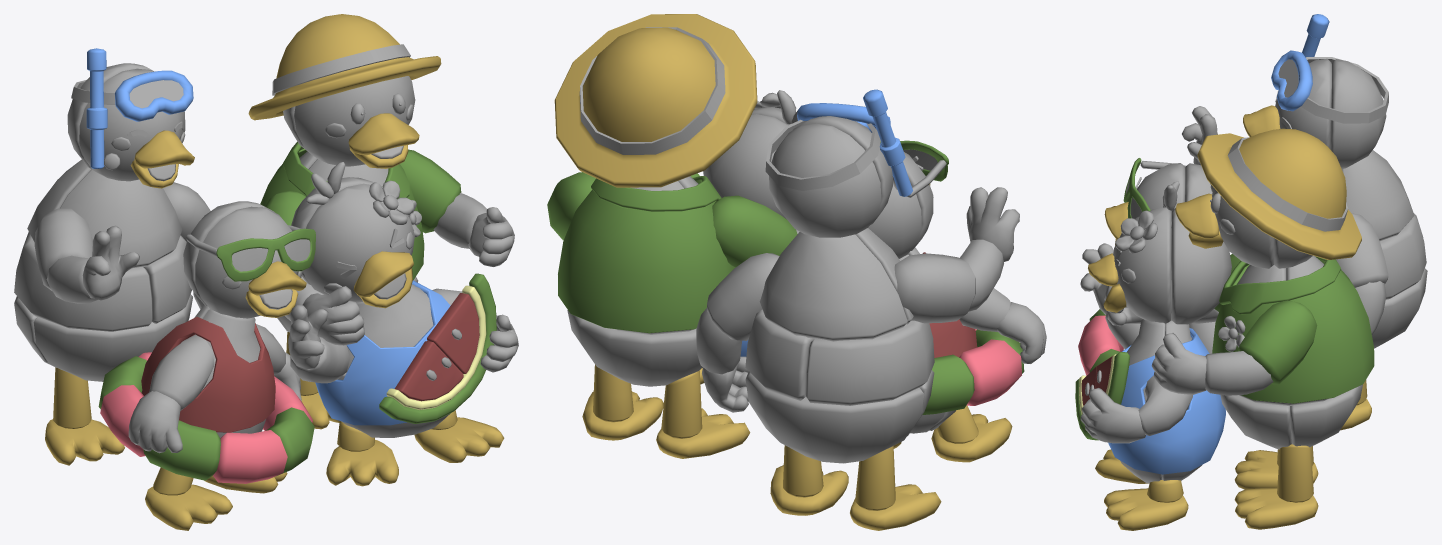
File: FunnyDucks.fbx
3 renders of one model, left to right at view 1: azimuth 30°, elevation 25°; view 2: azimuth 150°, elevation 25°; view 3: azimuth 270°, elevation 25°, orthographic. The views are drawn at different scales.
Parts seen in each view (by area): view 1: S_FunnyDucks_3, S_FunnyDucks_18, M_FunnyDucks_5, M_FunnyDucks_24, S_FunnyDucks_4, M_FunnyDucks_25, M_FunnyDucks_28, M_FunnyDucks_7, M_FunnyDucks_1, S_FunnyDucks_41, M_FunnyDucks_3, S_FunnyDucks_35 (+50 smaller); view 2: S_FunnyDucks_3, S_FunnyDucks_33, M_FunnyDucks_23, M_FunnyDucks_4, M_FunnyDucks_27, M_FunnyDucks_25, M_FunnyDucks_34, S_FunnyDucks_22, S_FunnyDucks_39, S_FunnyDucks_41, M_FunnyDucks_6, S_FunnyDucks_14 (+26 smaller); view 3: S_FunnyDucks_3, S_FunnyDucks_33, S_FunnyDucks_4, M_FunnyDucks_6, S_FunnyDucks_38, M_FunnyDucks_5, S_FunnyDucks_20, M_FunnyDucks_4, M_FunnyDucks_23, S_FunnyDucks_37, M_FunnyDucks_34, M_FunnyDucks_33 (+38 smaller).
Boxes of the visible parts, x1=… form: S_FunnyDucks_3: x1=248, y1=14, x2=441, y2=120; S_FunnyDucks_18: x1=141, y1=316, x2=275, y2=432; M_FunnyDucks_5: x1=303, y1=183, x2=414, y2=302; M_FunnyDucks_24: x1=60, y1=169, x2=182, y2=268; S_FunnyDucks_4: x1=315, y1=280, x2=450, y2=425; M_FunnyDucks_25: x1=14, y1=231, x2=152, y2=331; M_FunnyDucks_28: x1=33, y1=294, x2=192, y2=381; M_FunnyDucks_7: x1=294, y1=76, x2=415, y2=166; M_FunnyDucks_1: x1=195, y1=206, x2=297, y2=318; S_FunnyDucks_41: x1=45, y1=367, x2=124, y2=465; M_FunnyDucks_3: x1=79, y1=68, x2=185, y2=181; S_FunnyDucks_35: x1=145, y1=467, x2=232, y2=530; S_FunnyDucks_3: x1=554, y1=14, x2=757, y2=187; S_FunnyDucks_33: x1=558, y1=176, x2=734, y2=333; M_FunnyDucks_23: x1=759, y1=232, x2=907, y2=341; M_FunnyDucks_4: x1=769, y1=123, x2=881, y2=237; M_FunnyDucks_27: x1=745, y1=371, x2=924, y2=463; M_FunnyDucks_25: x1=804, y1=320, x2=934, y2=405; M_FunnyDucks_34: x1=567, y1=310, x2=701, y2=386; S_FunnyDucks_22: x1=894, y1=253, x2=975, y2=323; S_FunnyDucks_39: x1=656, y1=371, x2=750, y2=458; S_FunnyDucks_41: x1=850, y1=446, x2=941, y2=530; M_FunnyDucks_6: x1=703, y1=114, x2=787, y2=219; S_FunnyDucks_14: x1=712, y1=195, x2=797, y2=267; S_FunnyDucks_3: x1=1197, y1=128, x2=1361, y2=259; S_FunnyDucks_33: x1=1212, y1=256, x2=1374, y2=403; S_FunnyDucks_4: x1=1108, y1=328, x2=1225, y2=474; M_FunnyDucks_6: x1=1171, y1=208, x2=1231, y2=324; S_FunnyDucks_38: x1=1234, y1=444, x2=1318, y2=529; M_FunnyDucks_5: x1=1113, y1=207, x2=1171, y2=323; S_FunnyDucks_20: x1=1238, y1=300, x2=1317, y2=384; M_FunnyDucks_4: x1=1329, y1=59, x2=1386, y2=168; M_FunnyDucks_23: x1=1342, y1=150, x2=1414, y2=241; S_FunnyDucks_37: x1=1104, y1=480, x2=1188, y2=530; M_FunnyDucks_34: x1=1290, y1=384, x2=1362, y2=447; M_FunnyDucks_33: x1=1220, y1=395, x2=1291, y2=449.
Bounding box in the file's own units: 553 × 507 × 424.
